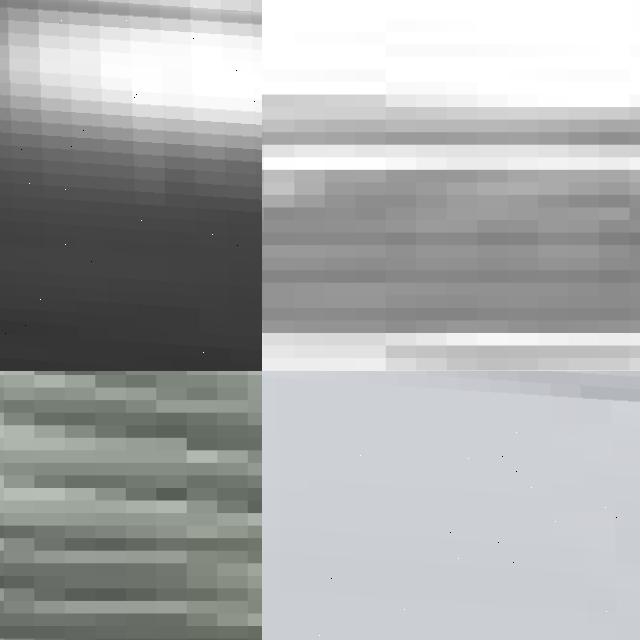street light: (262, 371, 640, 640), (0, 0, 262, 371)
